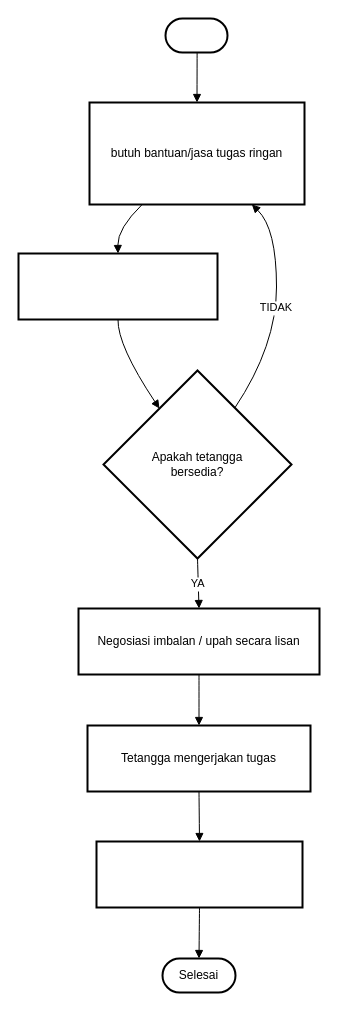
Image size: 337x1010. Some labels were removed from this diagram. Each missing label, with the centre of its shape:
"Meminta bantuan / menawarkan tugas" goes at pixel 117 286.
"Mulai" goes at pixel 196 35.
"Tugas selesai dan penyerahan imbalan" goes at pixel 199 874.
